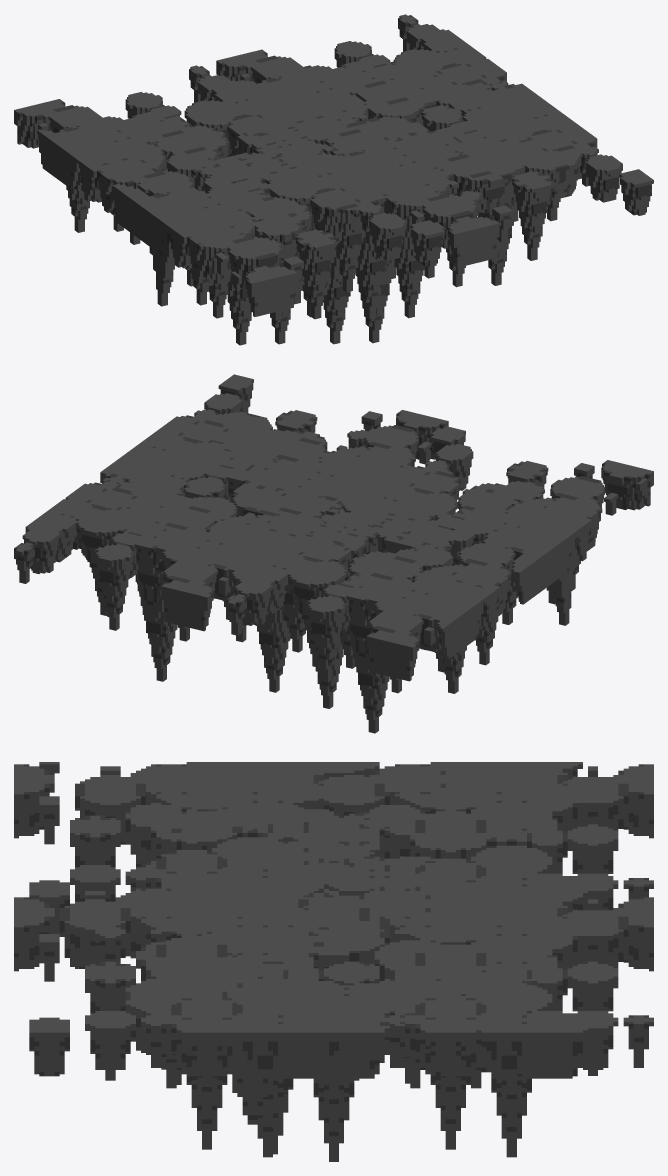
Rendered from bottomSpikes.obj.
3 renders of one model, top to bottom at view 1: azimuth 30°, elevation 25°; view 2: azimuth 150°, elevation 25°; view 3: azimuth 270°, elevation 25°, orthographic. The views are drawn at different scales.
Size of the model in its own units: 12.6 by 5.7 by 12.6.
1 material, 1 textured.
